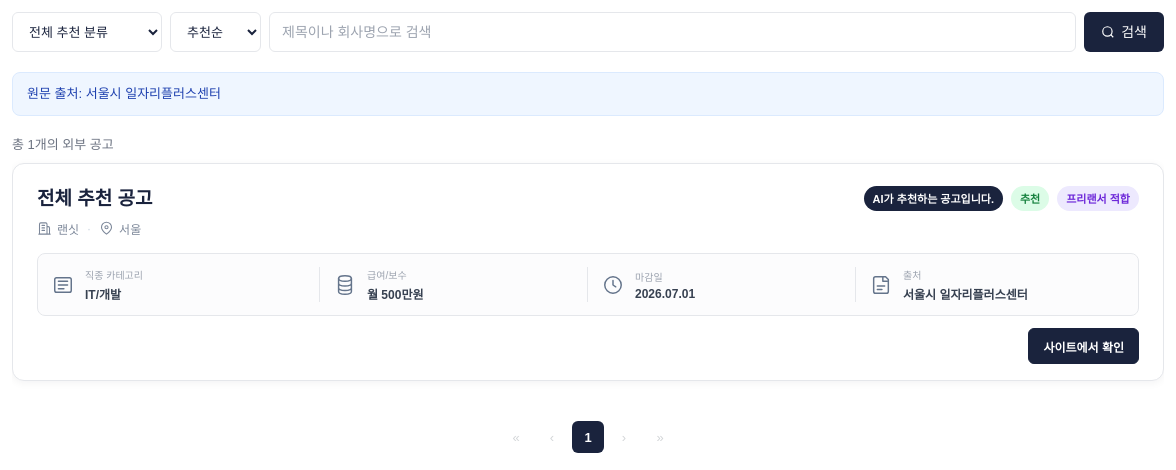
Test case: ExternalJobListPanel › hides the AI recommendation copy when search keyword results are shown
Type "검색" into the field named "외부 공고 검색어" at coordinates (673, 32), box [269, 12, 1076, 52]
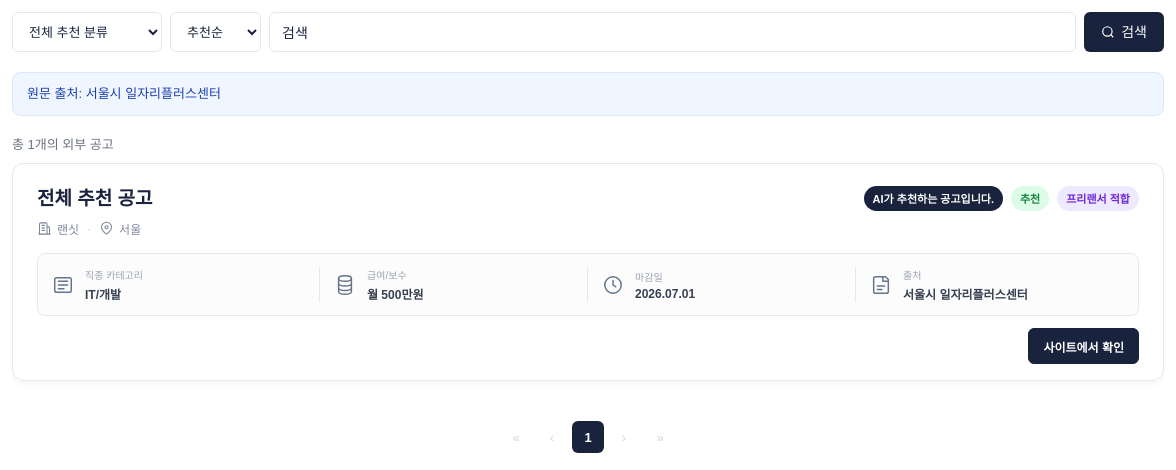
Submit the form, box [12, 12, 1164, 52]
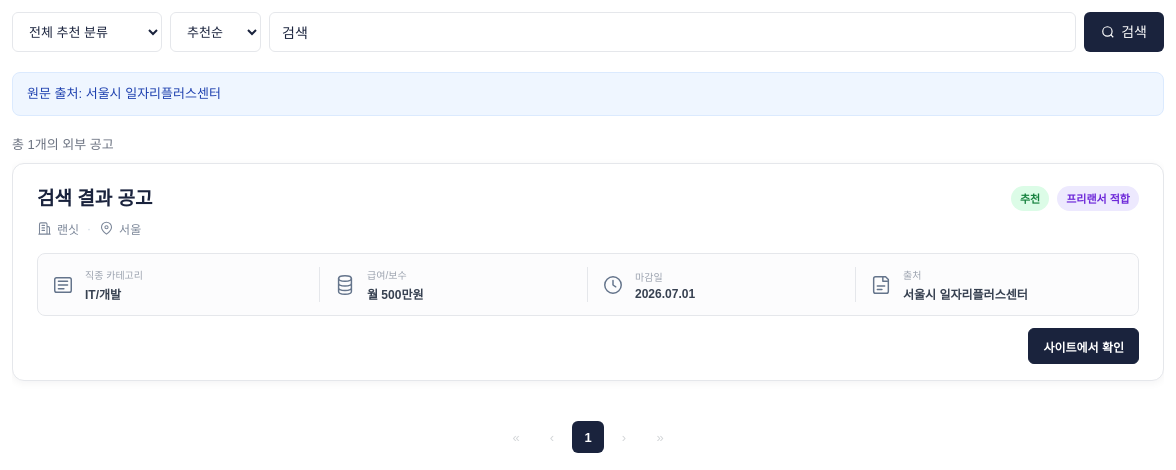
Result: the text "검색 결과 공고" is shown at [37, 186, 152, 212]
Result: the text "AI가 추천하는 공고입니다." is gone
